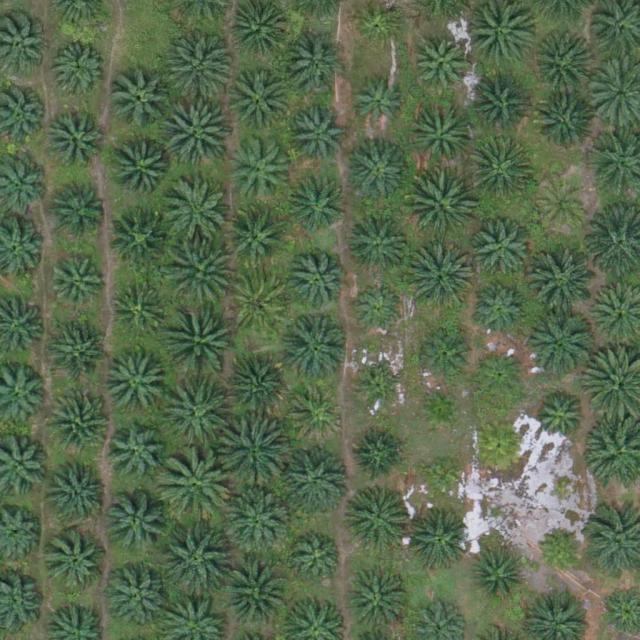Healthy: (159, 380, 230, 451), (163, 32, 233, 103), (162, 524, 232, 595), (161, 451, 231, 522), (225, 485, 295, 556), (281, 444, 351, 515), (467, 135, 537, 206), (405, 172, 476, 242), (166, 302, 236, 373), (165, 238, 235, 309), (161, 180, 232, 250), (165, 99, 235, 170), (217, 419, 287, 489), (220, 557, 290, 627), (405, 242, 475, 312), (281, 313, 351, 383), (528, 250, 598, 320), (525, 308, 595, 378), (529, 29, 592, 92), (107, 423, 170, 486), (405, 509, 468, 572), (347, 213, 410, 276), (227, 136, 290, 199), (225, 205, 288, 268), (50, 177, 113, 240), (45, 109, 108, 172), (110, 68, 172, 131), (230, 69, 292, 132), (288, 33, 350, 96), (465, 73, 527, 136), (46, 531, 108, 594), (47, 391, 109, 454), (104, 354, 166, 417), (106, 491, 168, 554), (105, 565, 168, 627), (349, 573, 411, 636), (470, 218, 532, 281), (410, 105, 472, 168), (346, 143, 408, 206), (286, 250, 348, 313), (229, 273, 292, 335), (48, 321, 110, 384), (51, 460, 113, 522), (226, 357, 288, 419), (347, 487, 409, 549), (530, 90, 592, 152), (111, 137, 173, 199), (111, 208, 173, 270), (473, 282, 528, 338), (52, 39, 107, 94), (413, 38, 468, 93), (473, 348, 528, 403), (292, 533, 347, 588), (532, 390, 587, 445), (351, 284, 406, 339), (290, 179, 345, 234), (289, 111, 344, 166), (111, 283, 166, 338), (49, 259, 104, 314), (350, 78, 404, 133), (290, 387, 344, 442), (352, 427, 406, 482), (472, 550, 526, 605), (417, 329, 471, 384)
Small: (537, 525, 584, 573), (417, 386, 464, 434), (419, 453, 466, 501), (358, 368, 405, 415)
Yellow: (473, 418, 528, 473), (536, 179, 591, 234)
